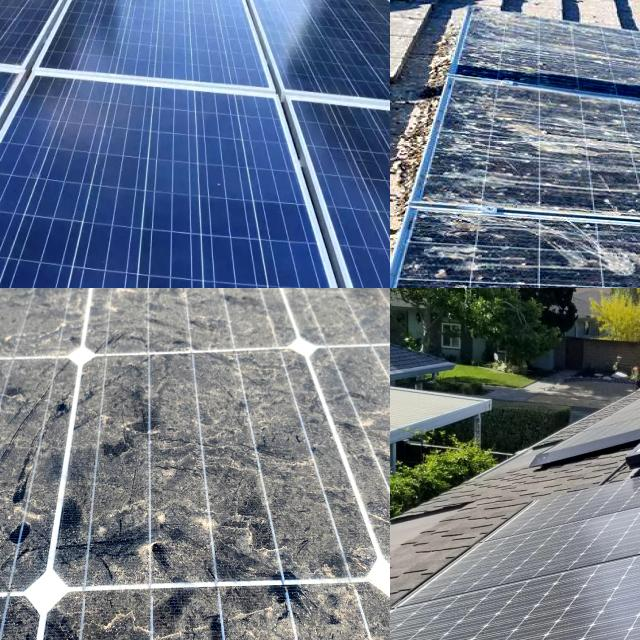bird: (462, 97, 618, 152), (543, 237, 640, 287), (422, 166, 534, 198), (406, 238, 496, 268)
crack: (0, 90, 281, 288), (28, 0, 287, 108), (267, 83, 390, 288), (230, 0, 390, 136)
dust: (66, 348, 304, 604), (0, 355, 108, 591), (89, 288, 258, 358), (0, 288, 74, 364), (310, 288, 390, 349), (0, 288, 390, 297), (0, 288, 23, 364)
